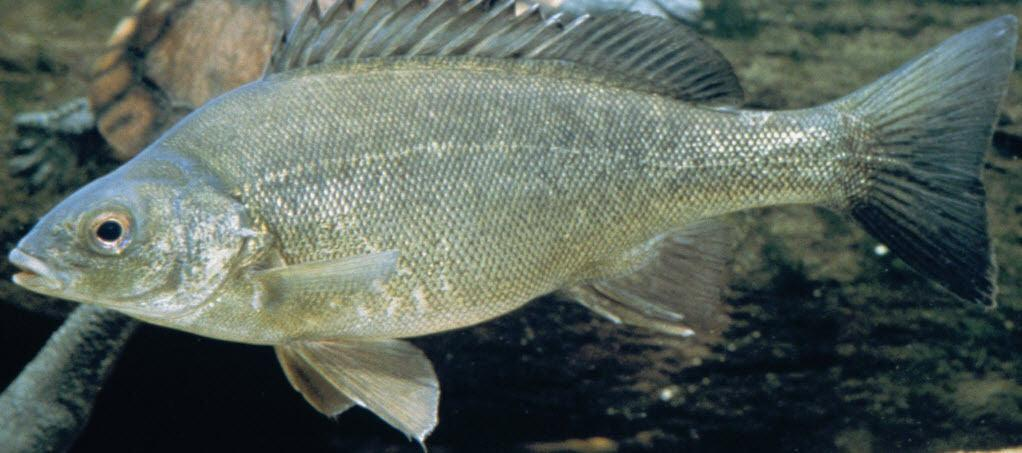Silver Perch: (0, 0, 1022, 443)
